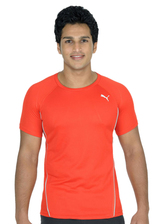clothoes: (18, 70, 140, 220)
